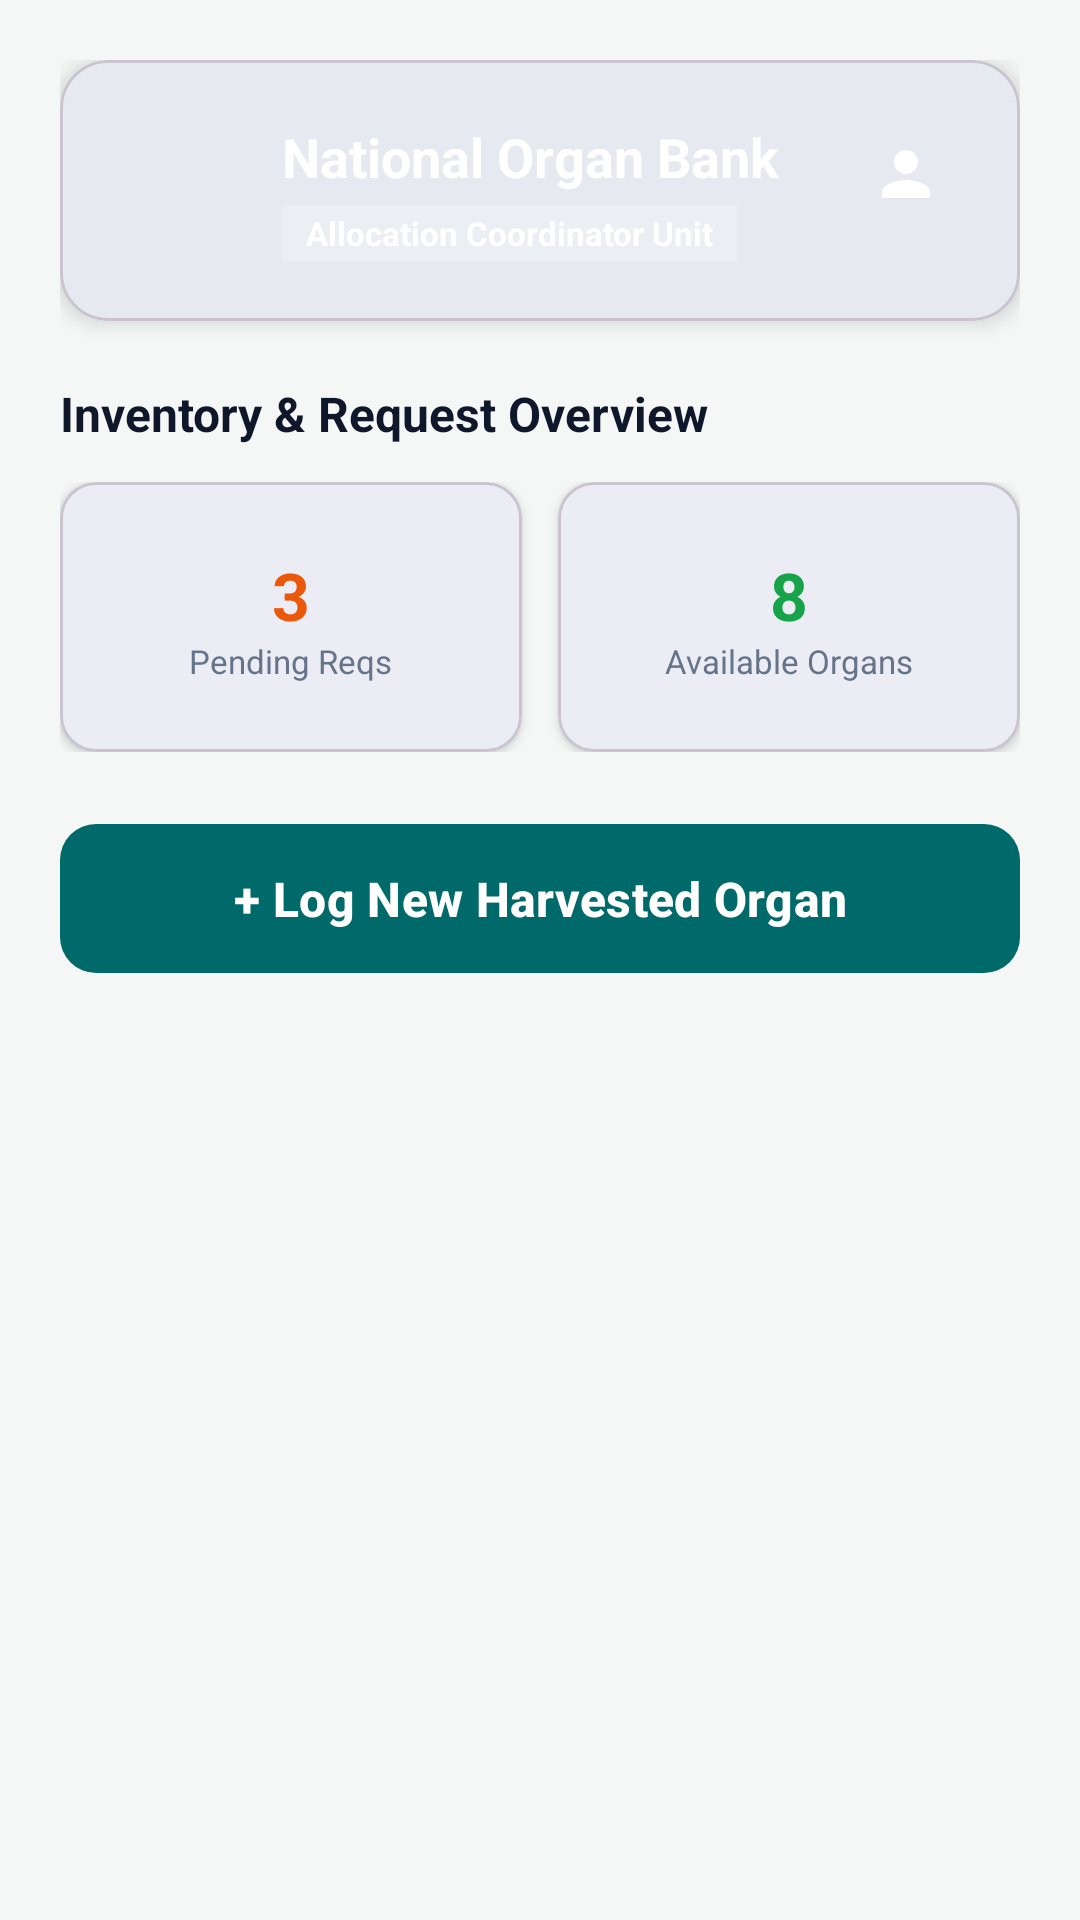

Point at icon controls on the screen. Image size 1080px×1920px, points as (x=x, y=y).
profile: (x=906, y=174)
